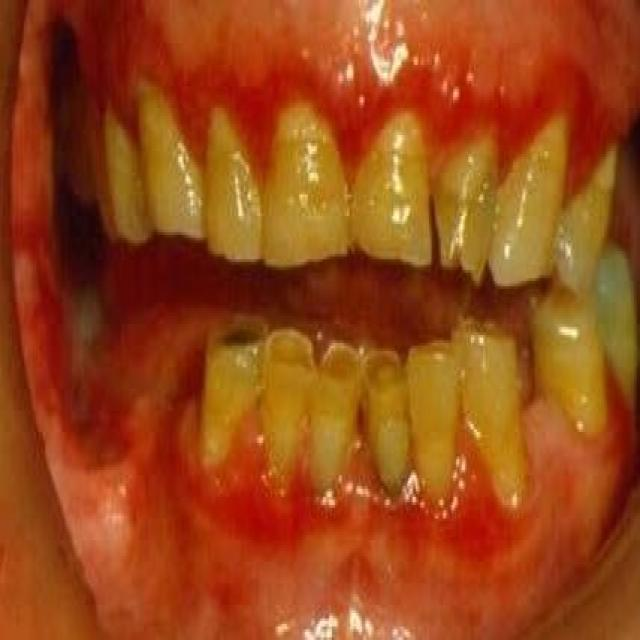caries: (203, 299, 267, 364), (266, 316, 316, 384), (317, 326, 365, 394), (440, 225, 488, 287), (365, 340, 409, 400)
